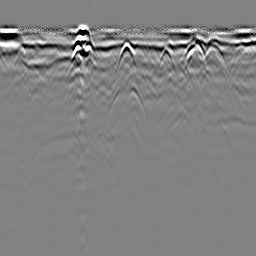cavity: (116, 38, 138, 71)
